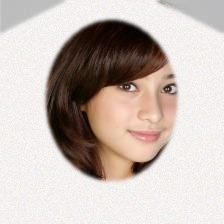Mukena: (0, 28, 223, 224)
